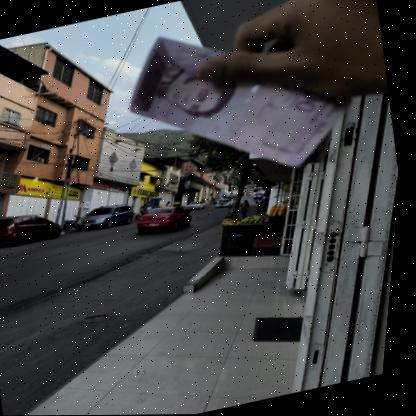one_hundred-front-vef: (110, 0, 373, 201)
